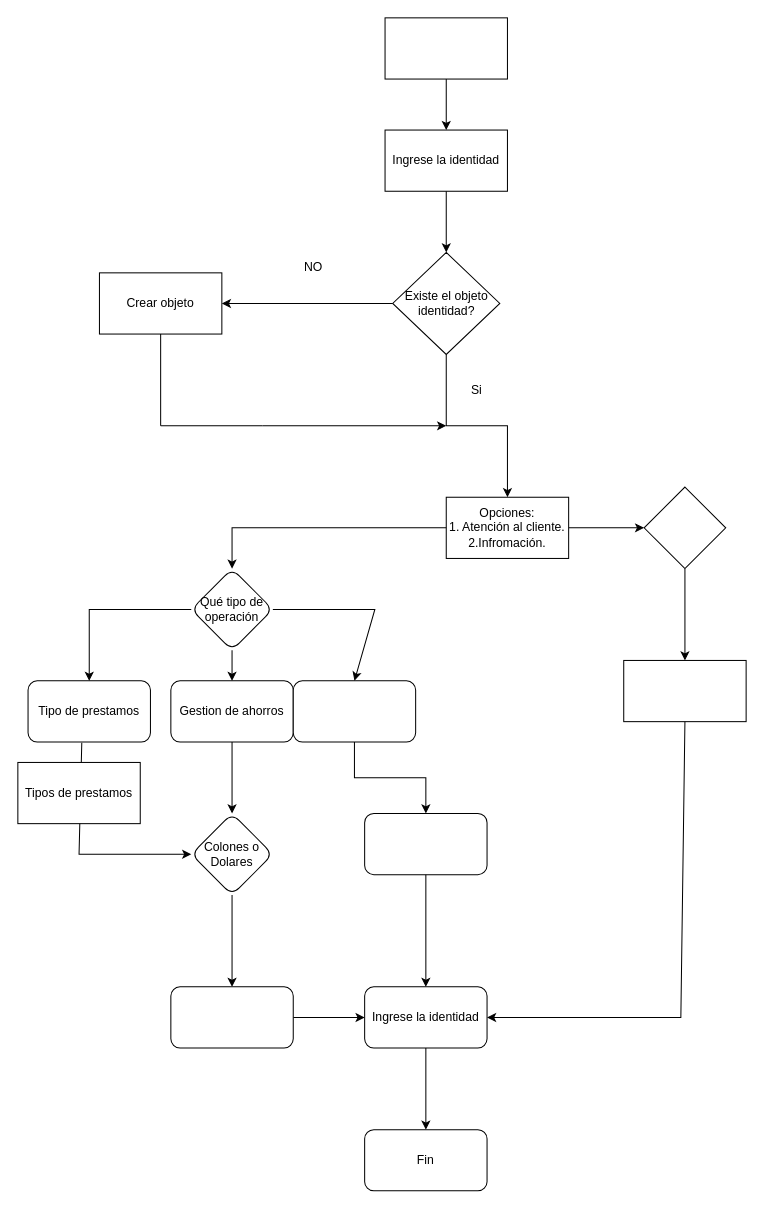
The diagram is 764 pixels wide and 1209 high, and some of its shapes have lost their labels. The shapes that lost their labels are listed below. From the top down, each one's box as (x1, y1, x2, y2) in pixels, then its label:
(384, 17, 507, 79): Inicio
(643, 486, 726, 569): Ahorros o Prestamos
(623, 659, 746, 722): Mostrar información
(292, 680, 416, 742): Operaciones
(364, 812, 487, 875): Realizar las operaciones
(170, 986, 293, 1048): Mostrar Monto mensual y desglose.
